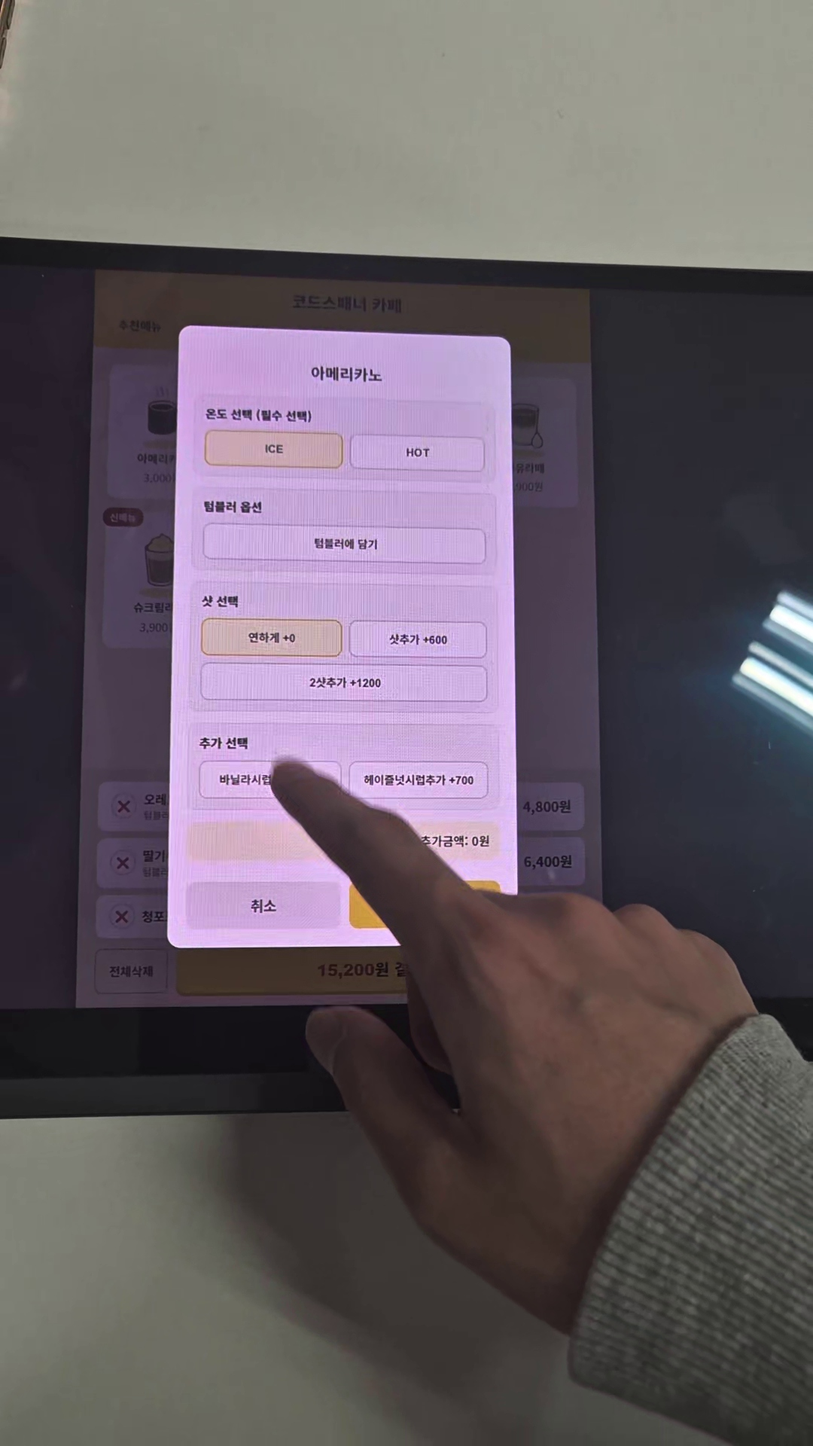action_button: (185, 882, 341, 929)
option_button: (203, 524, 485, 564), (201, 663, 487, 701), (205, 431, 343, 469), (202, 619, 342, 656), (349, 762, 488, 799), (349, 621, 487, 658), (200, 762, 341, 798), (350, 436, 485, 472)
popup_modal: (167, 325, 519, 949)
